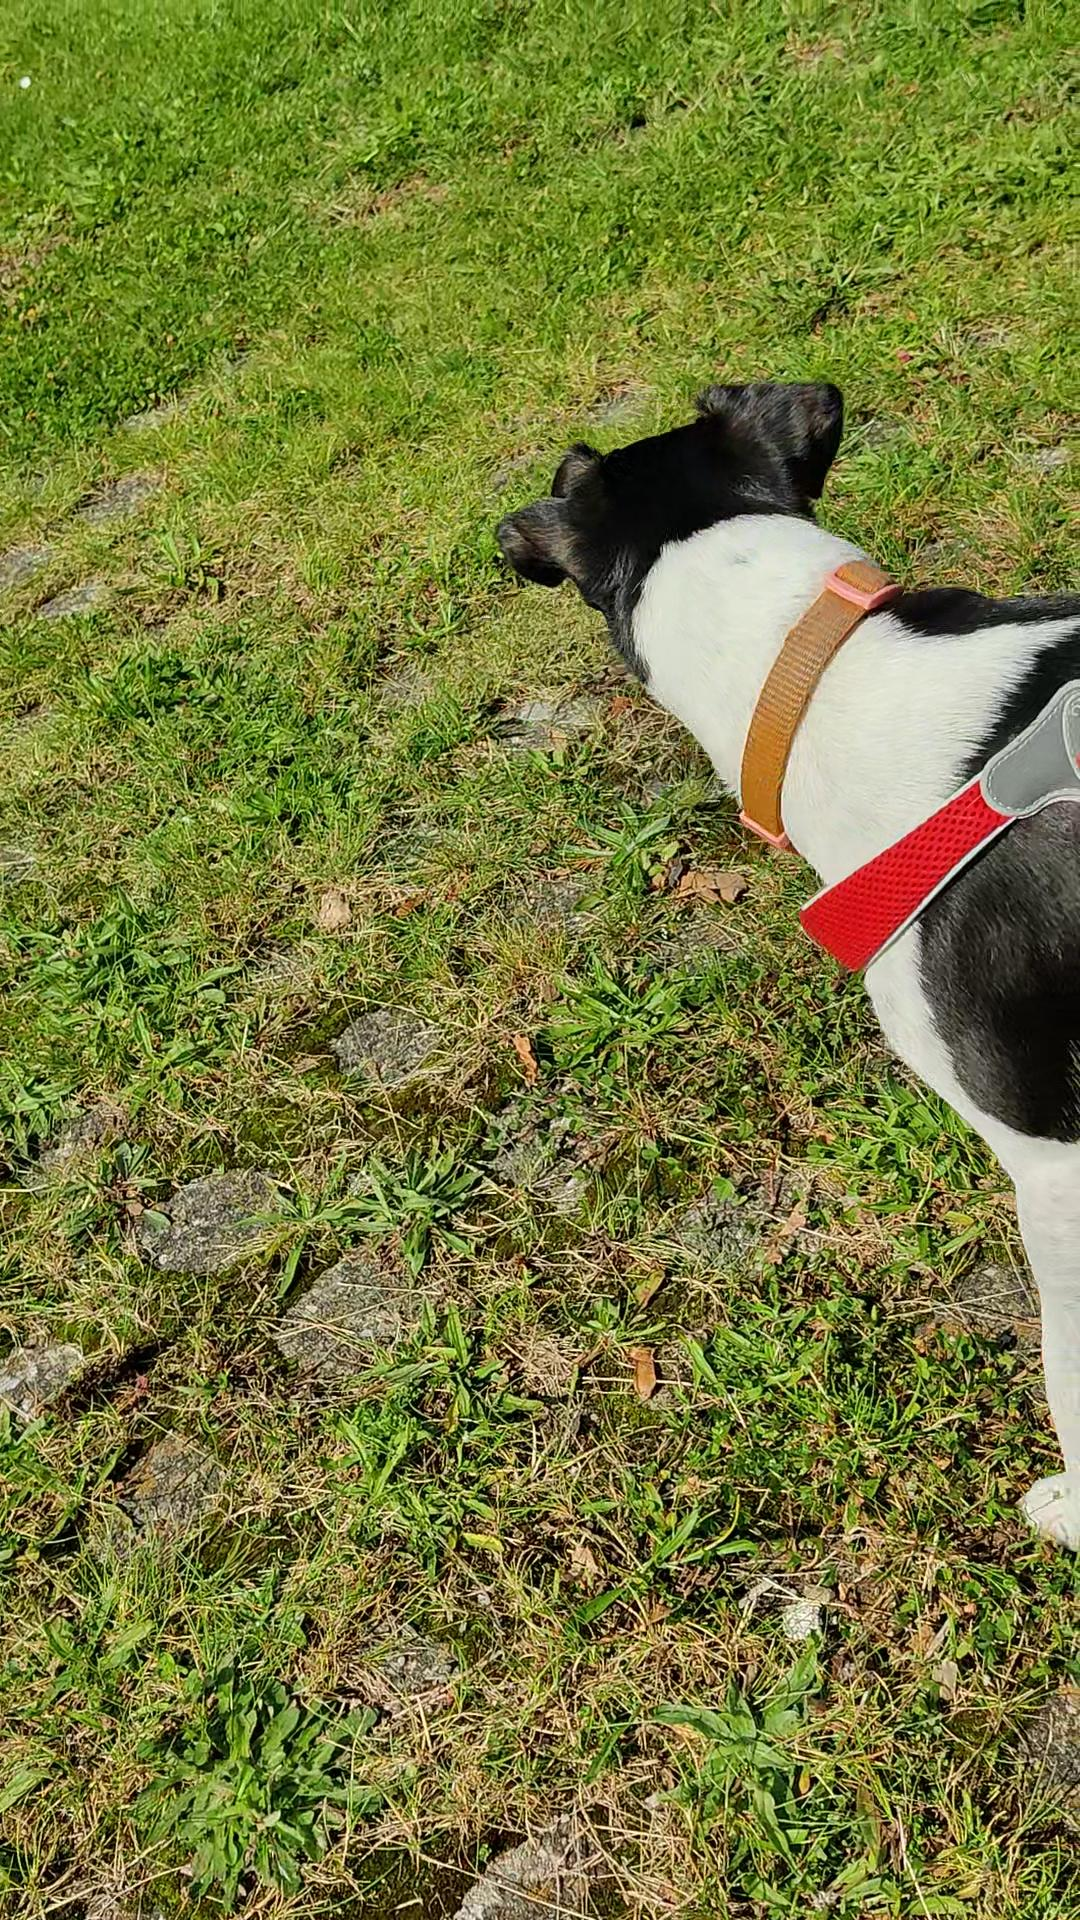Dog: (477, 369, 1079, 1578)
